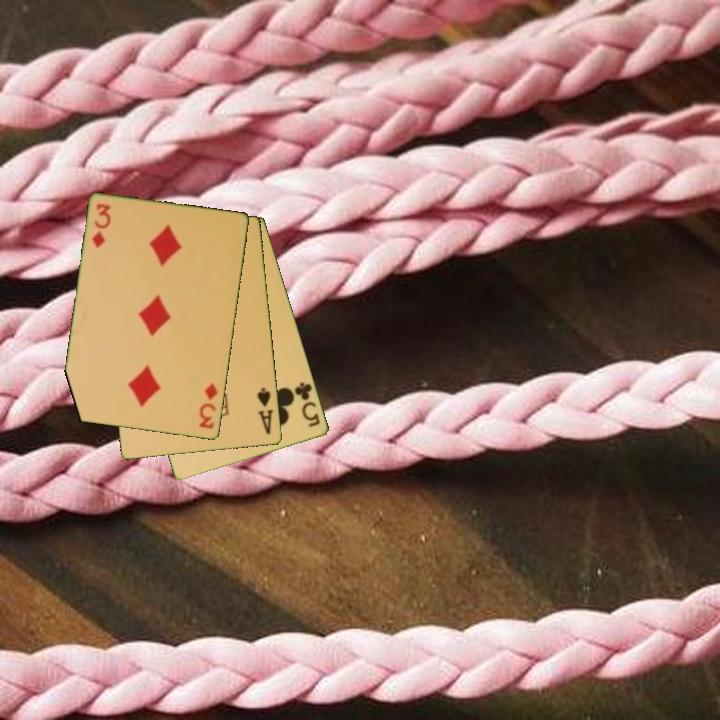3d: (196, 380, 221, 432), (89, 200, 114, 251)
5c: (291, 379, 323, 430)
As: (254, 384, 276, 438)
